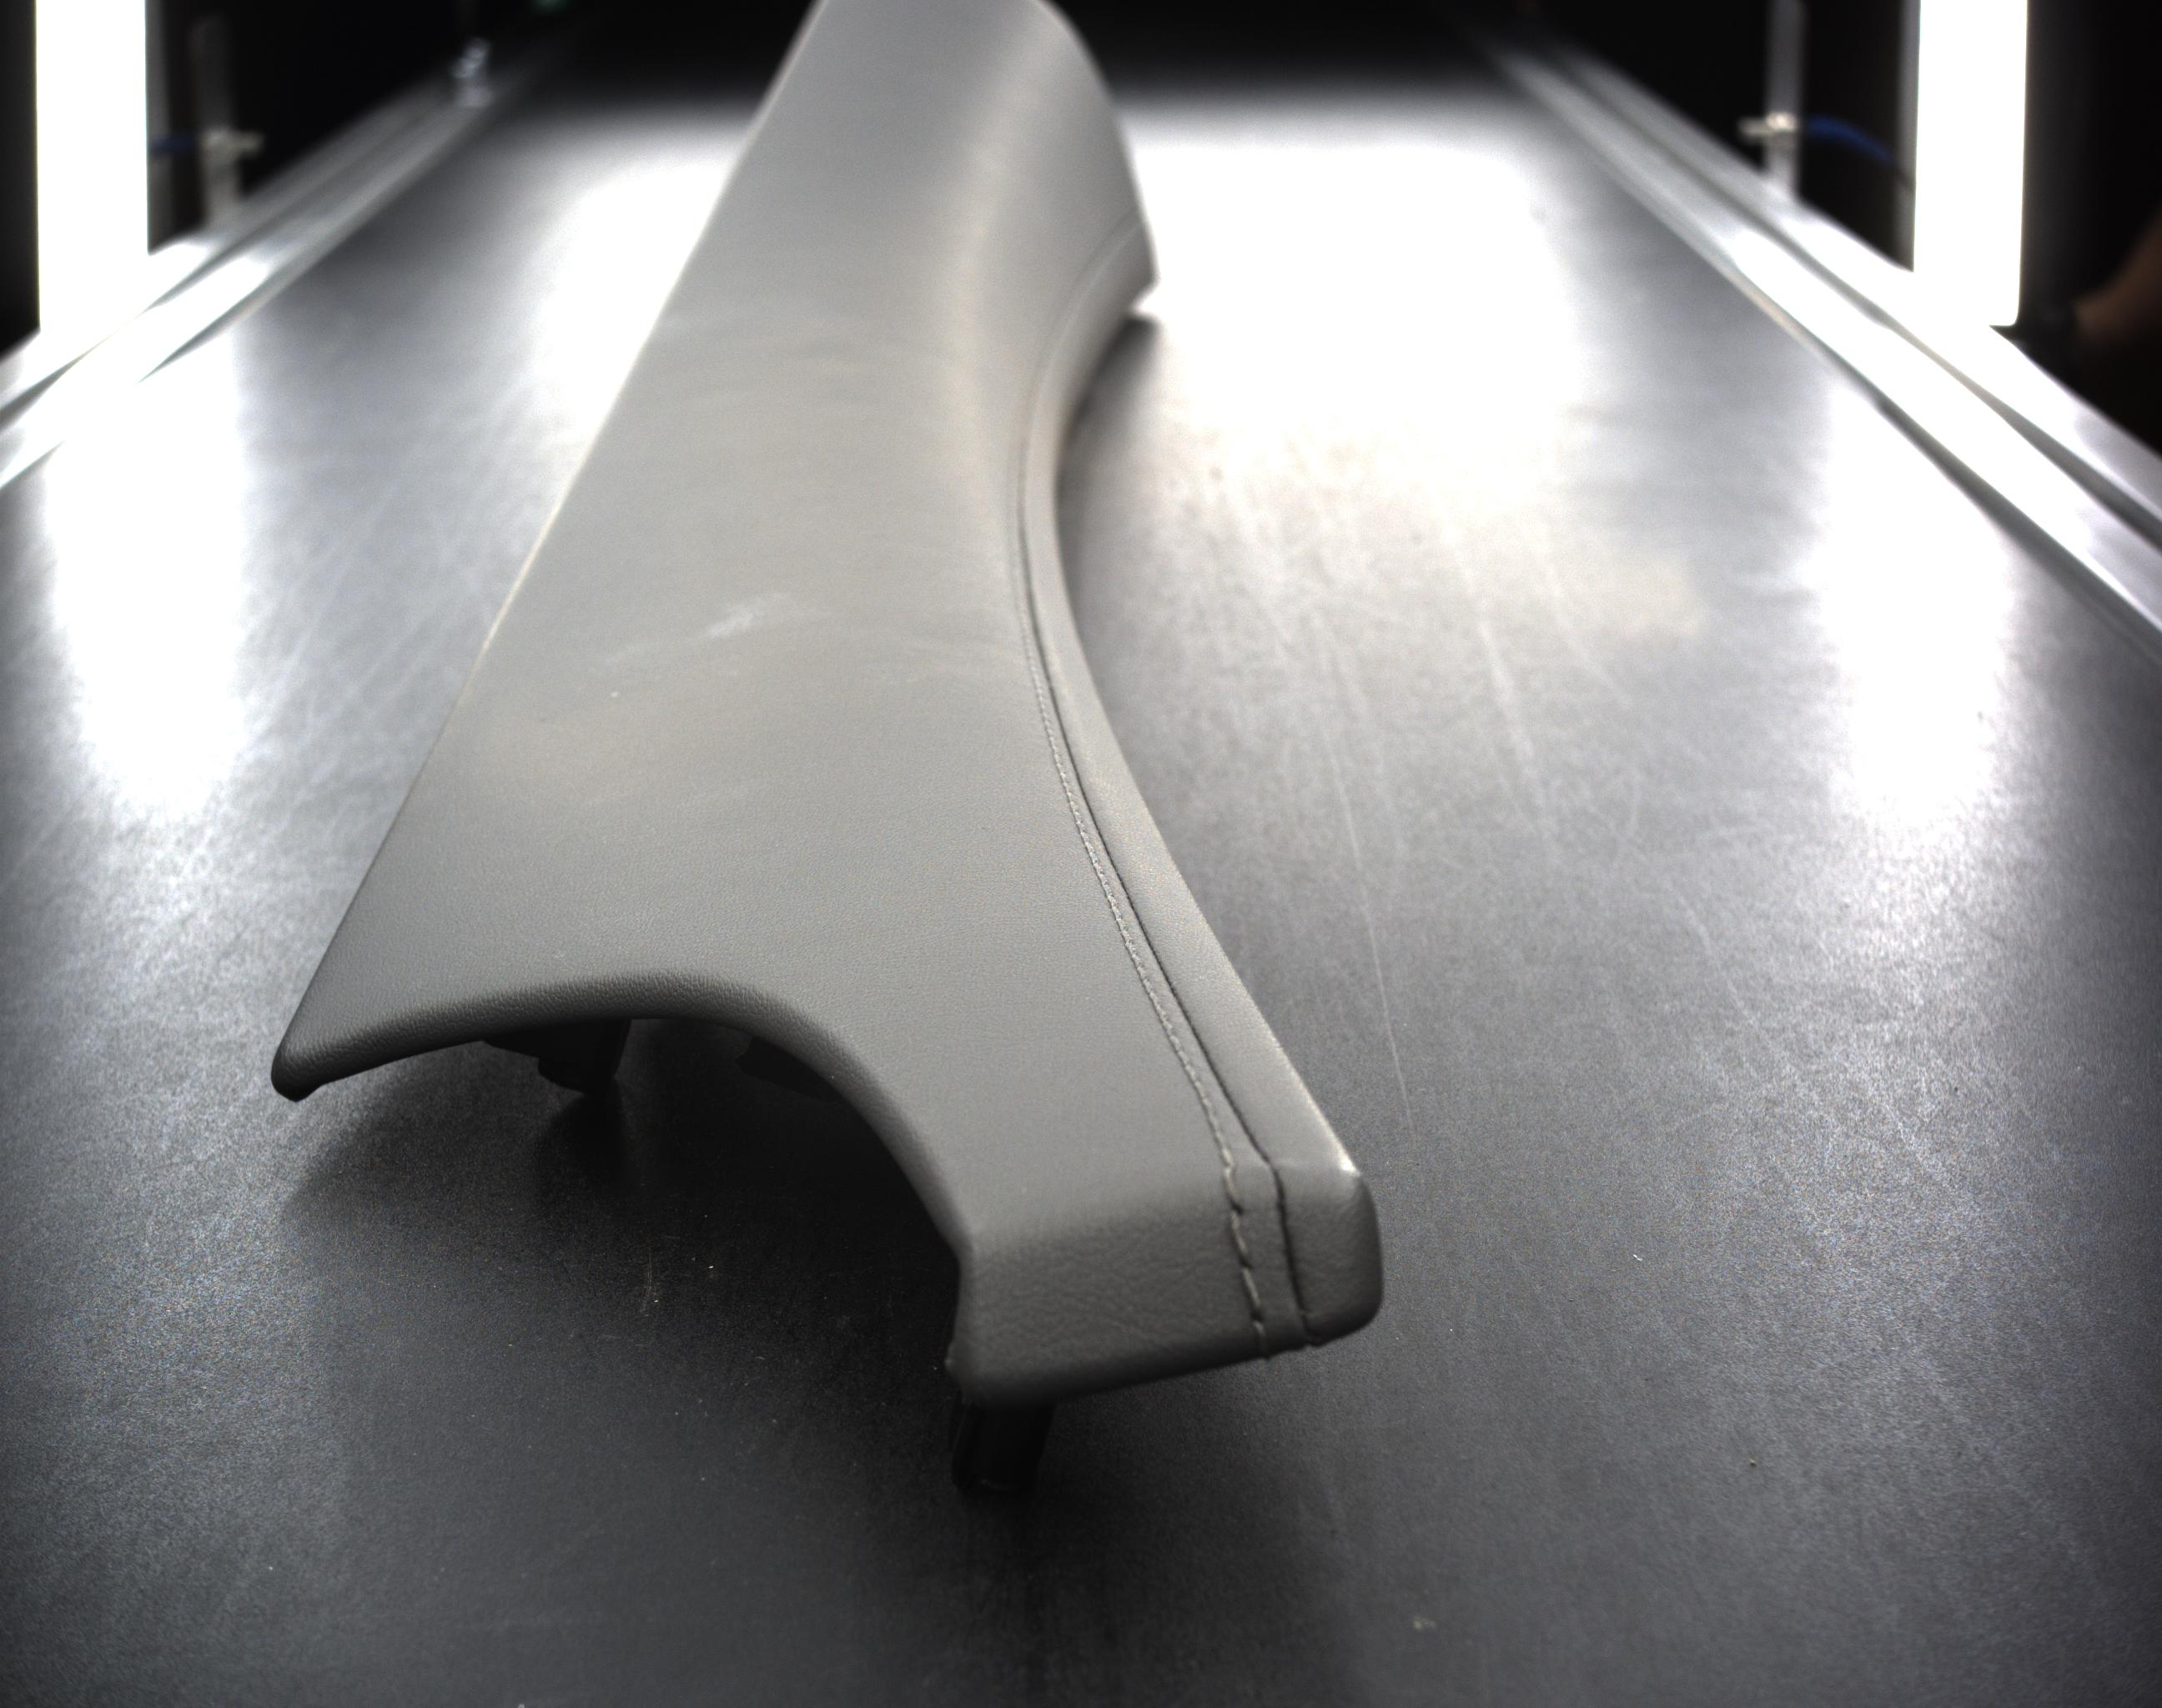vline: (1239, 1264, 1264, 1313), (1228, 1213, 1249, 1257), (1253, 1322, 1269, 1353)
